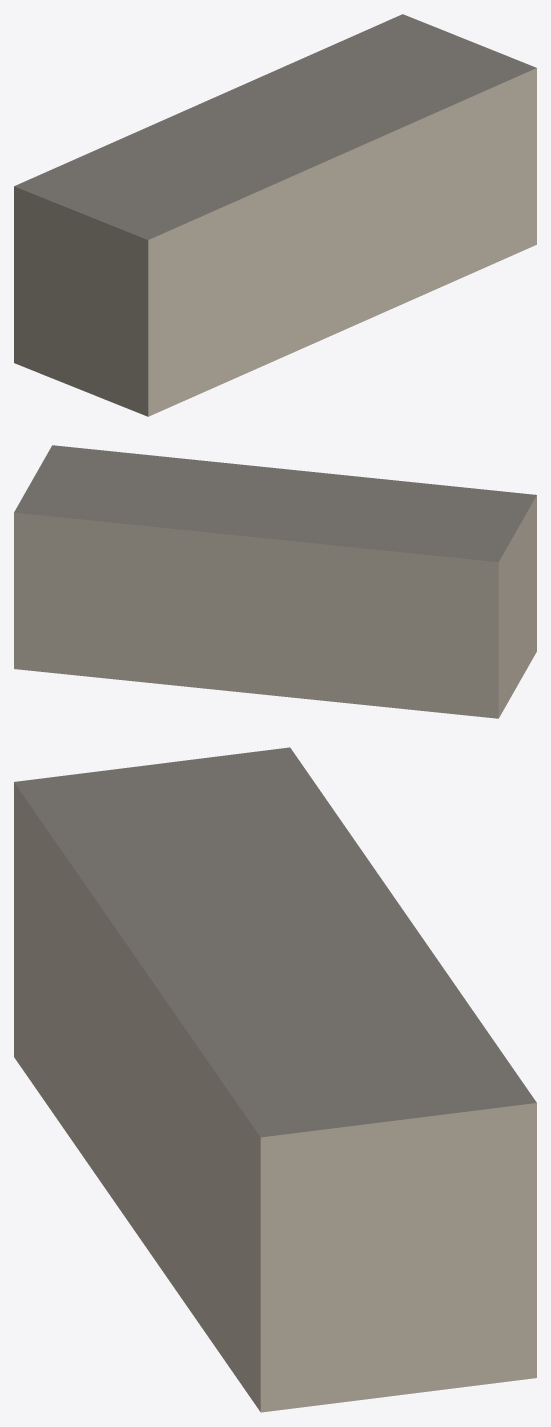
3 renders of one model, top to bottom at view 1: azimuth 30°, elevation 25°; view 2: azimuth 150°, elevation 25°; view 3: azimuth 270°, elevation 25°, orthographic. The views are drawn at different scales.
Parts seen in each view (by area): view 1: HP-w378107165; view 2: HP-w378107165; view 3: HP-w378107165.
Part boxes in pixels (x1,y1,x2,y2): HP-w378107165: (14,14,536,416); HP-w378107165: (14,445,536,718); HP-w378107165: (14,747,536,1412).
Bounding box in the file's own units: 45.61 × 15 × 25.84.
